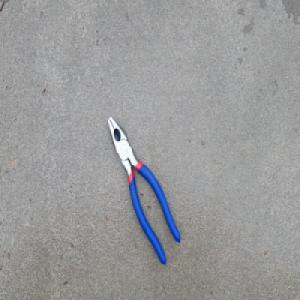Pliers: (107, 115, 181, 265)
